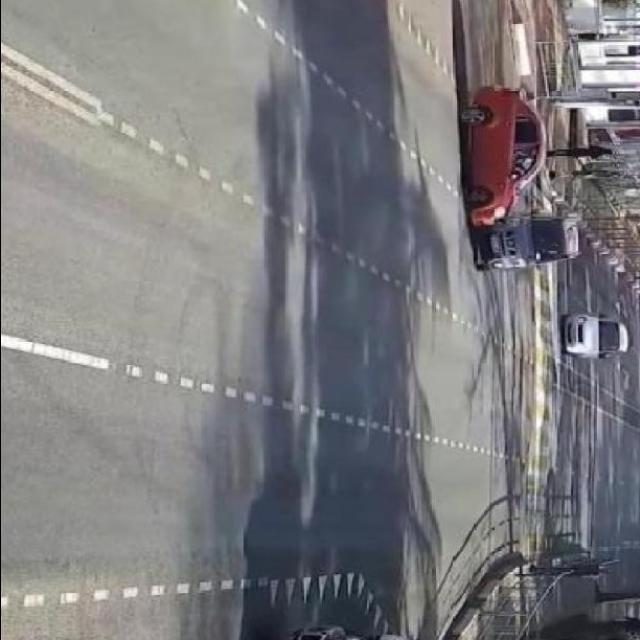accident: (466, 167, 556, 261)
